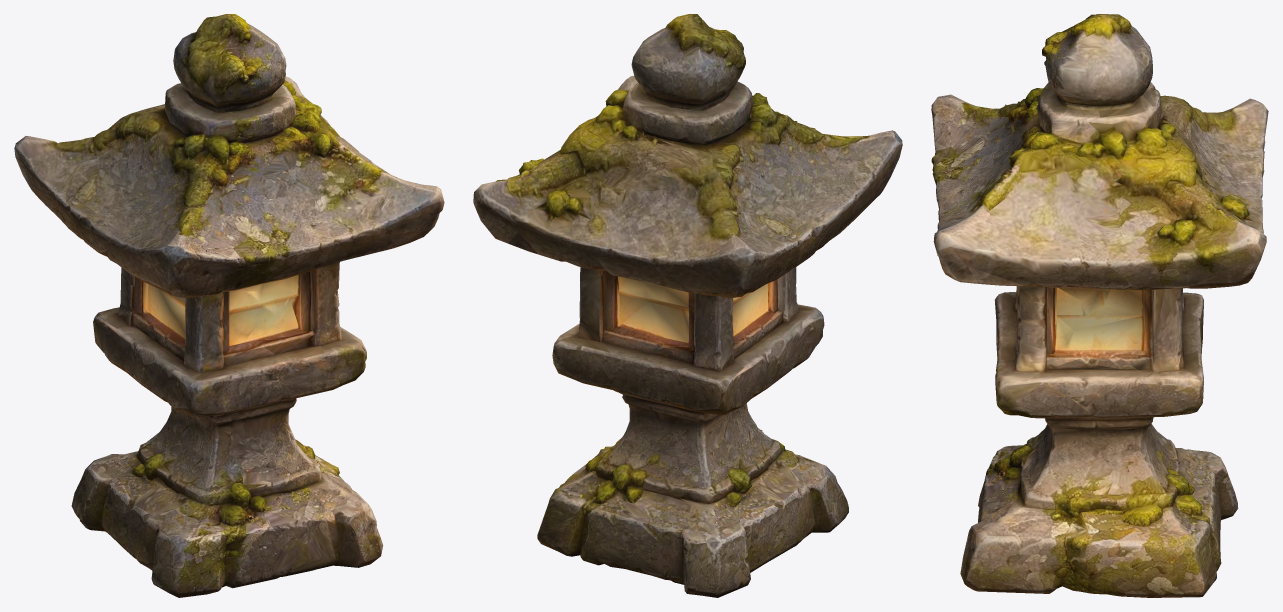
File: stone_lantern.glb
3 renders of one model, left to right at view 1: azimuth 30°, elevation 25°; view 2: azimuth 150°, elevation 25°; view 3: azimuth 270°, elevation 25°, orthographic. The views are drawn at different scales.
Visible parts, largest first — view 1: tripo_node_ba564991-c361-4033-80fe-be8c617df24a; view 2: tripo_node_ba564991-c361-4033-80fe-be8c617df24a; view 3: tripo_node_ba564991-c361-4033-80fe-be8c617df24a.
Boxes of the visible parts, x1,y1,x2,y2 form: tripo_node_ba564991-c361-4033-80fe-be8c617df24a: (14, 14, 444, 597); tripo_node_ba564991-c361-4033-80fe-be8c617df24a: (473, 14, 902, 597); tripo_node_ba564991-c361-4033-80fe-be8c617df24a: (931, 14, 1268, 597).
Size of the model in its own units: 0.6268 by 1.1 by 0.6279.
Materials: 1 (1 with a texture image).
